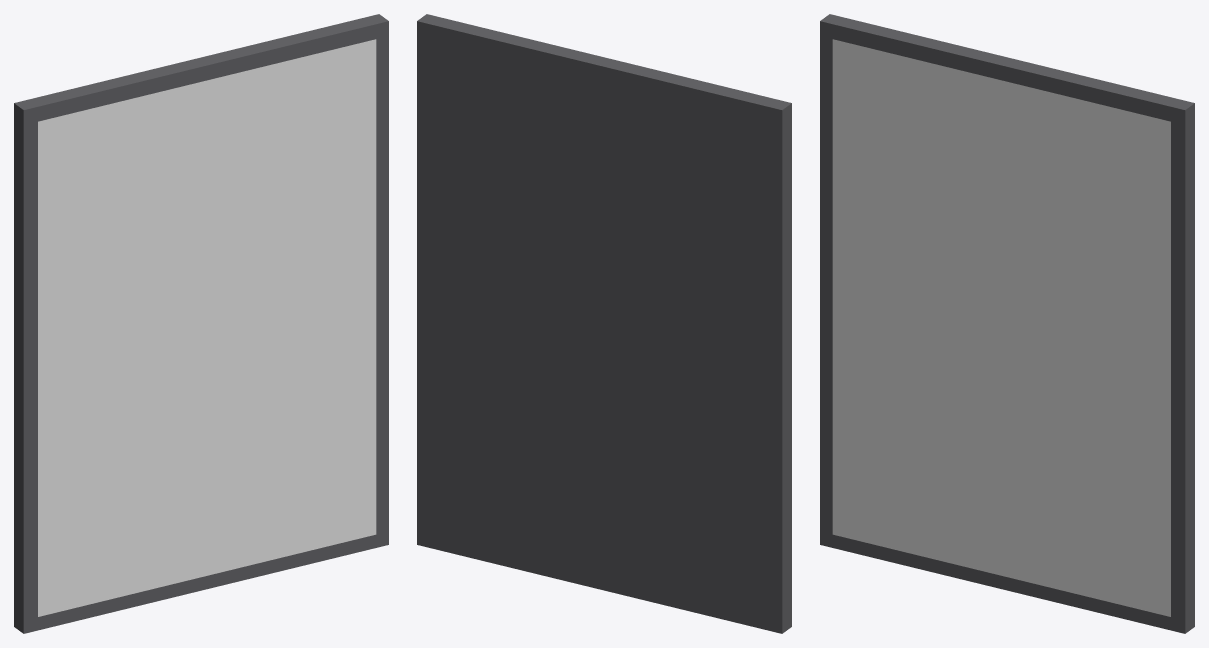
Rendered from framed-poster-v2.glb.
The picture shows the model from 3 angles, left to right: view 1: azimuth 30°, elevation 25°; view 2: azimuth 150°, elevation 25°; view 3: azimuth 330°, elevation 25°; orthographic projection.
Parts seen in each view (by area): view 1: FramedPoster; view 2: FramedPoster; view 3: FramedPoster.
Part boxes in pixels (left/top/right/bottom): FramedPoster: left=14, top=14, right=388, bottom=633; FramedPoster: left=417, top=14, right=791, bottom=633; FramedPoster: left=820, top=14, right=1194, bottom=633.
Bounding box in the file's own units: 0.54 × 0.74 × 0.027.
Materials: 2 (1 with a texture image).
